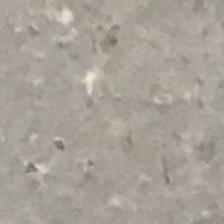Non_Crack: (37, 11, 215, 205)
